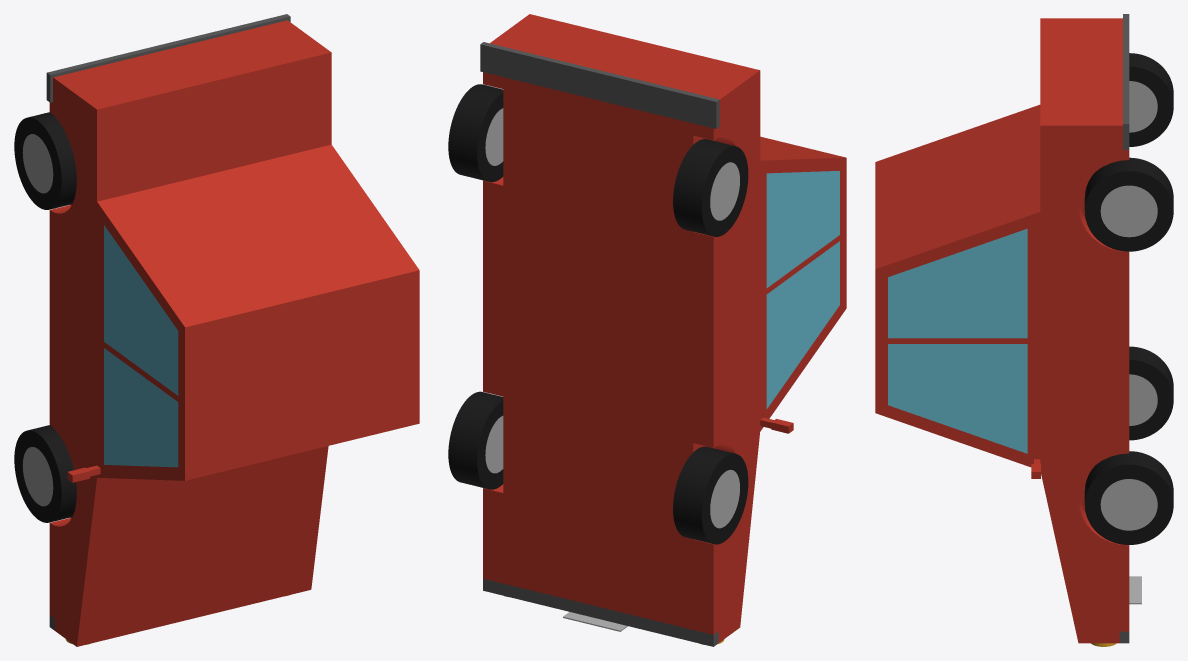
File: Blocky Car.fbx
The picture shows the model from 3 angles, left to right: view 1: azimuth 30°, elevation 25°; view 2: azimuth 150°, elevation 25°; view 3: azimuth 270°, elevation 25°; orthographic projection. The views are drawn at different scales.
Parts seen in each view (by area): view 1: Body21, Body4, Body5, Body16, Body15, Body23, Body17, Body18; view 2: Body21, Body23, Body5, Body4, Body16, Body15, Body13, Body14, Body11, Body17, Body18, Body19 (+1 smaller); view 3: Body21, Body3, Body2, Body14, Body13, Body19, Body20, Body15, Body16, Body17, Body18, Body23.
Part boxes in pixels (x1=…): Body21: x1=49, y1=20, x2=419, y2=646; Body4: x1=104, y1=225, x2=178, y2=395; Body5: x1=104, y1=348, x2=178, y2=467; Body16: x1=14, y1=112, x2=76, y2=209; Body15: x1=14, y1=425, x2=76, y2=522; Body23: x1=46, y1=14, x2=290, y2=102; Body17: x1=22, y1=134, x2=53, y2=193; Body18: x1=22, y1=447, x2=53, y2=506; Body21: x1=483, y1=14, x2=846, y2=642; Body23: x1=480, y1=42, x2=719, y2=128; Body5: x1=766, y1=241, x2=839, y2=409; Body4: x1=766, y1=171, x2=839, y2=287; Body16: x1=673, y1=139, x2=748, y2=236; Body15: x1=673, y1=446, x2=748, y2=544; Body13: x1=448, y1=391, x2=503, y2=489; Body14: x1=448, y1=84, x2=503, y2=182; Body11: x1=483, y1=578, x2=718, y2=646; Body17: x1=710, y1=162, x2=739, y2=220; Body18: x1=710, y1=469, x2=739, y2=528; Body19: x1=485, y1=108, x2=503, y2=165; Body21: x1=875, y1=18, x2=1129, y2=643; Body3: x1=888, y1=228, x2=1027, y2=338; Body2: x1=888, y1=344, x2=1027, y2=453; Body14: x1=1084, y1=157, x2=1173, y2=251; Body13: x1=1084, y1=451, x2=1173, y2=544; Body19: x1=1100, y1=185, x2=1157, y2=237; Body20: x1=1100, y1=479, x2=1157, y2=530; Body15: x1=1129, y1=346, x2=1173, y2=440; Body16: x1=1129, y1=53, x2=1173, y2=146; Body17: x1=1129, y1=81, x2=1157, y2=132; Body18: x1=1129, y1=374, x2=1157, y2=425; Body23: x1=1123, y1=14, x2=1129, y2=149.
Size of the model in its own units: 50 by 91.5 by 47.
